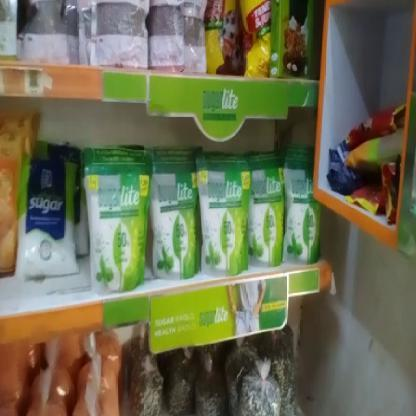SUGARLITE POUCH 500G: (87, 166, 144, 288), (148, 166, 198, 278), (198, 168, 248, 273), (249, 172, 287, 266), (286, 172, 317, 262)
